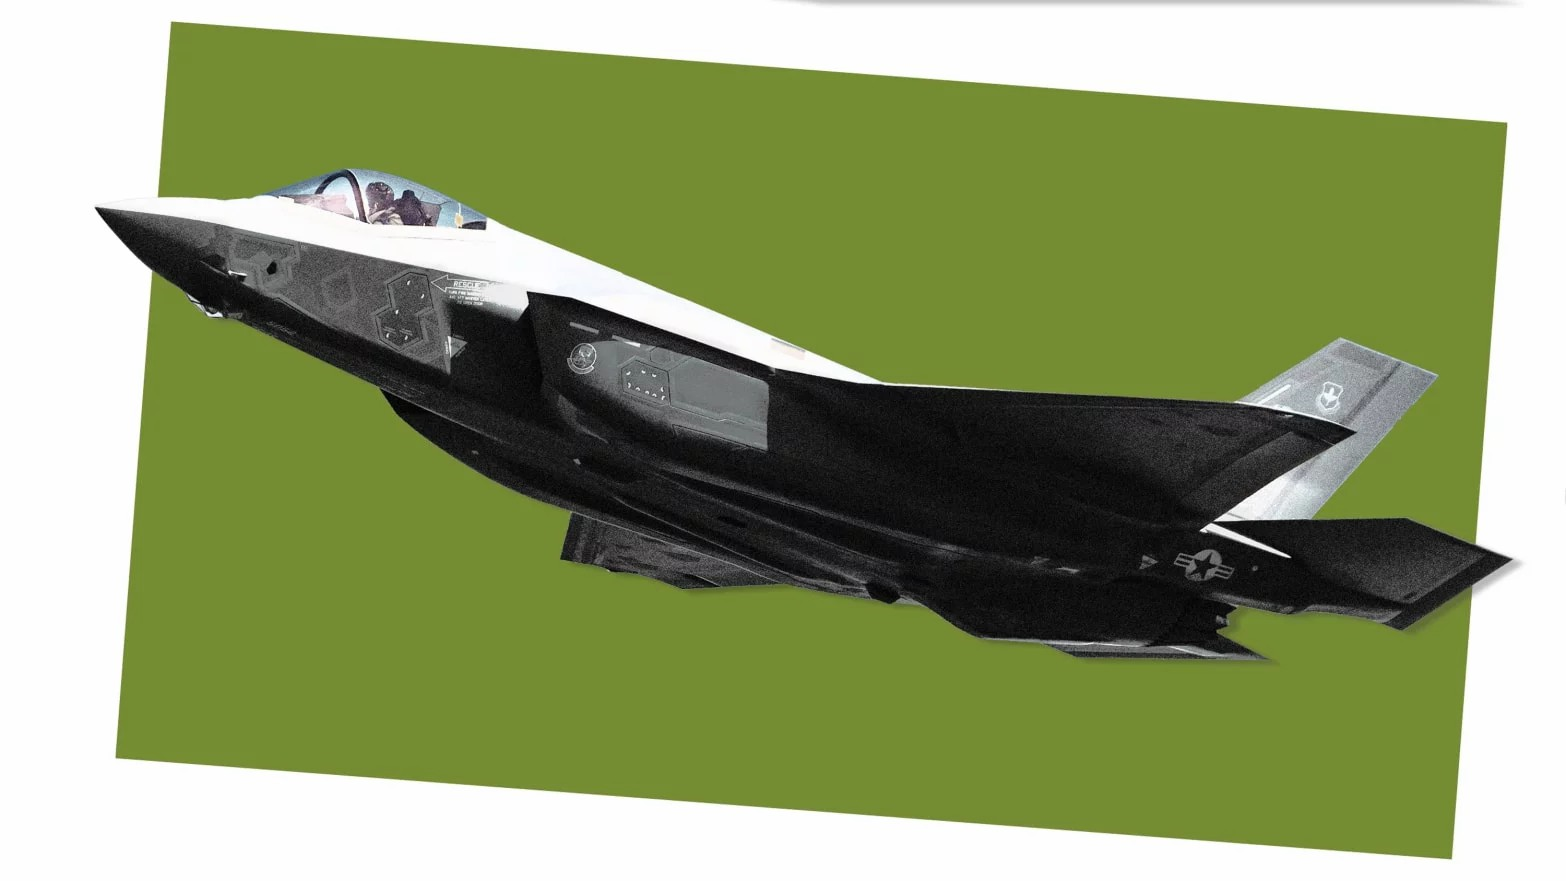F-35 Lightning: (67, 139, 1535, 688)
